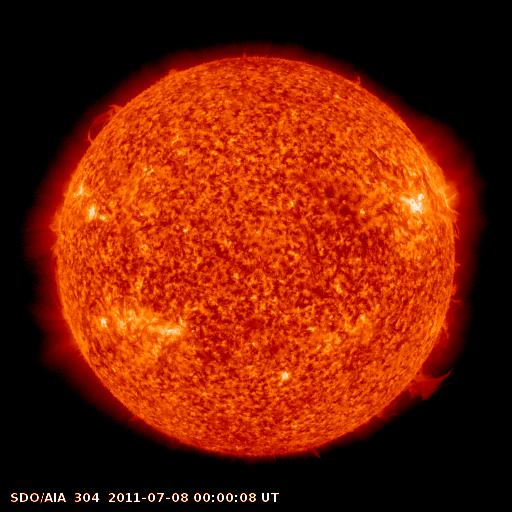prominence: (382, 319, 462, 402), (81, 94, 128, 148)
